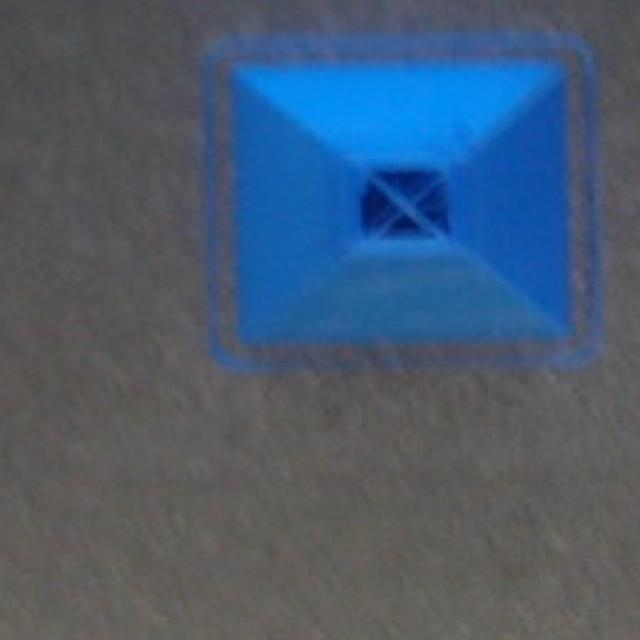mistake: (208, 32, 599, 366)
